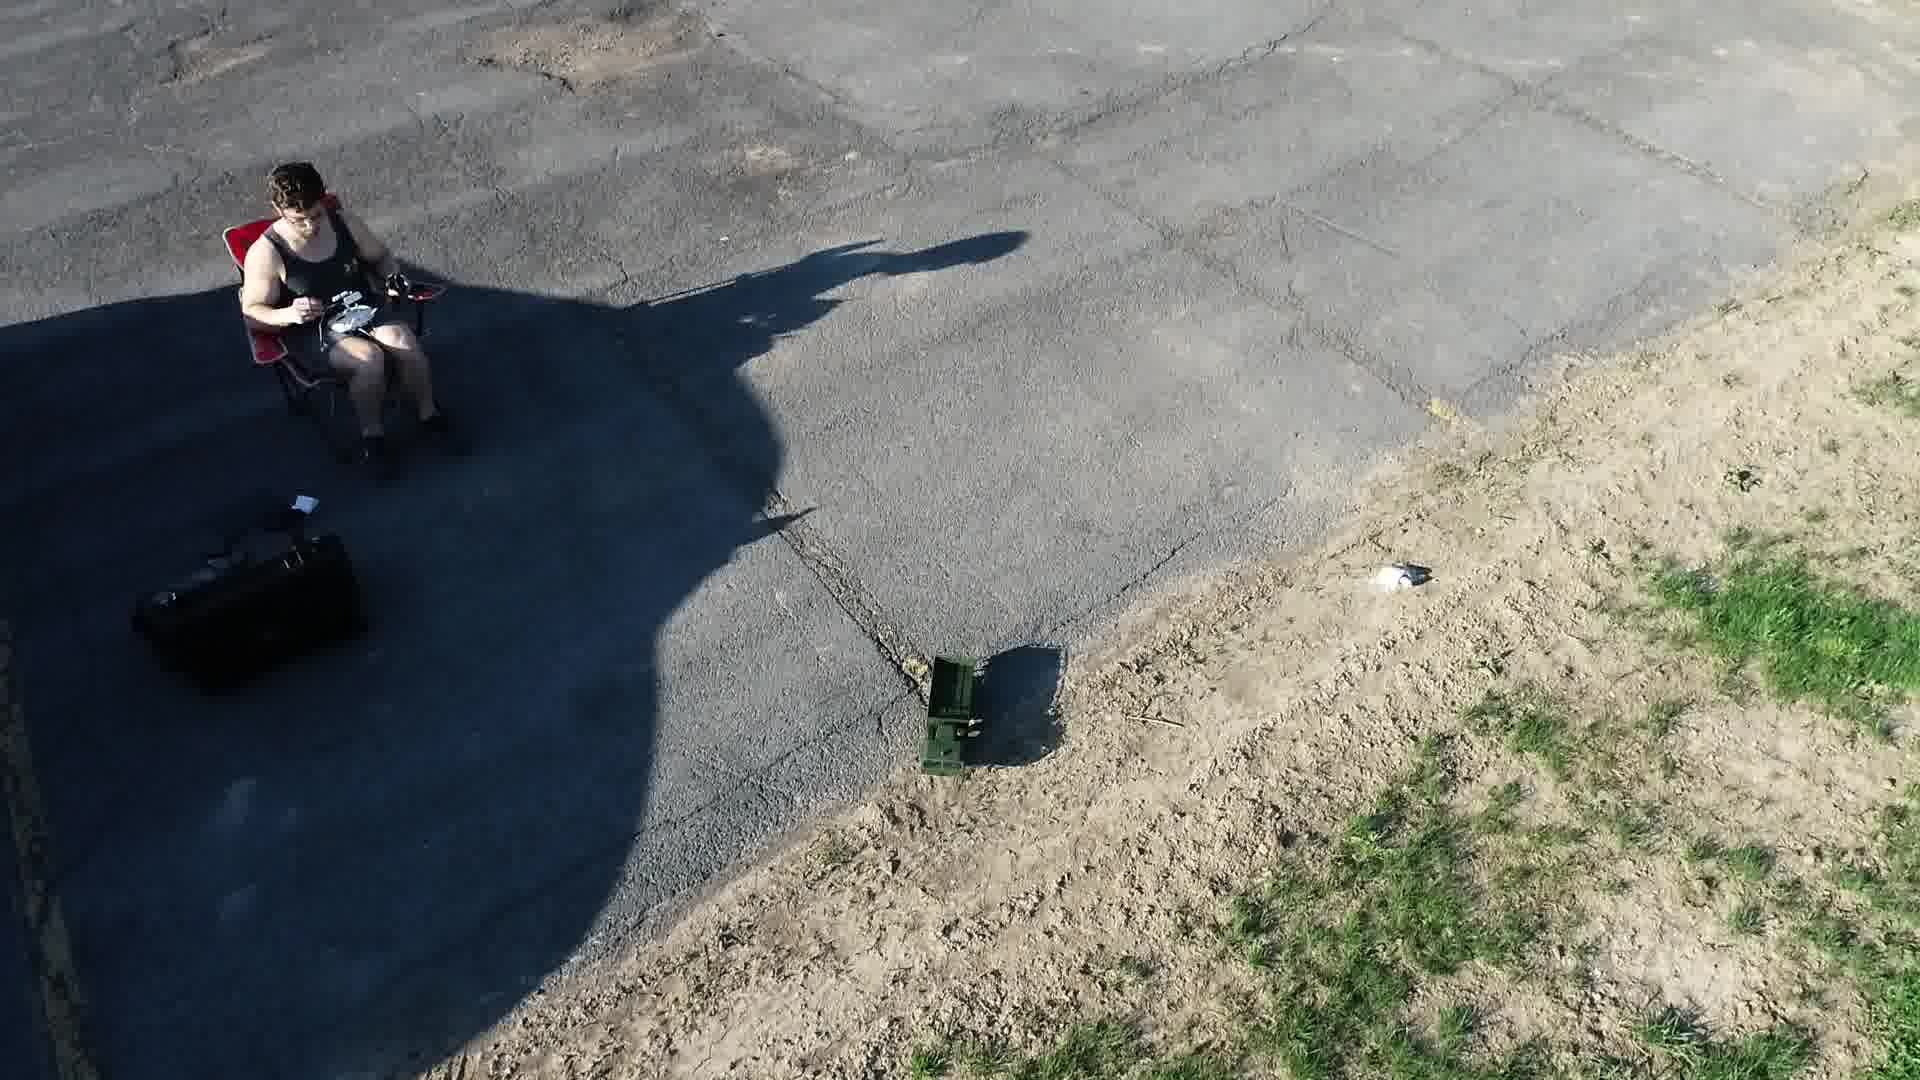transporter9: (911, 651, 985, 785)
